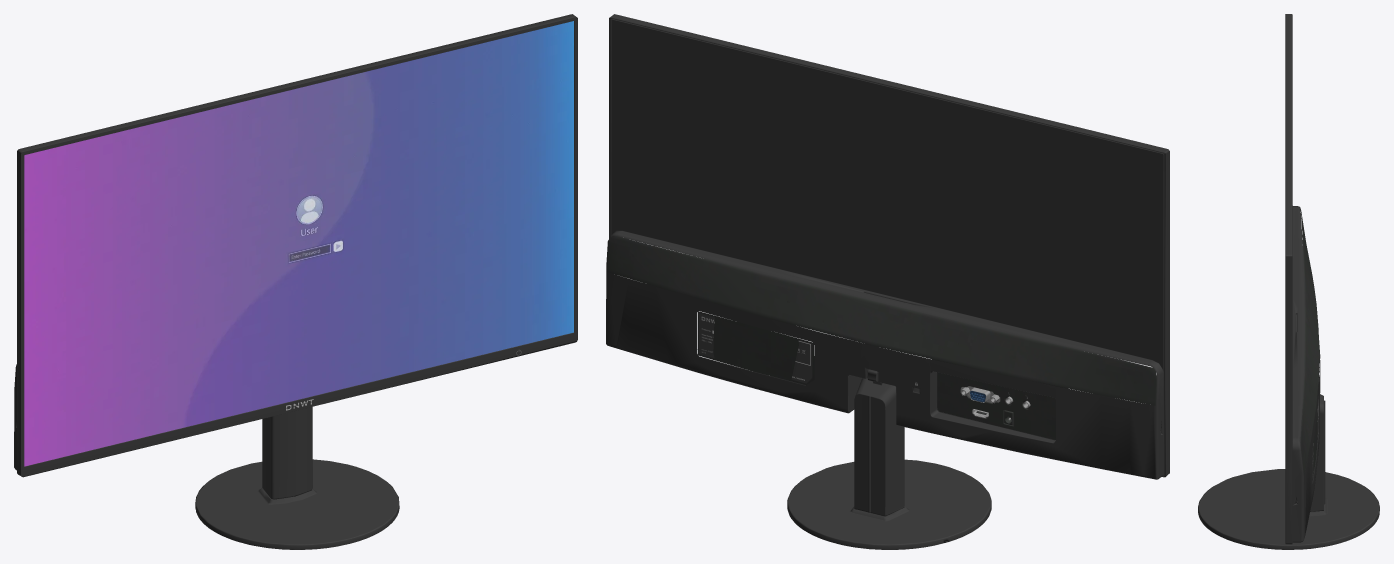
File: monitor.glb
The picture shows the model from 3 angles, left to right: view 1: azimuth 30°, elevation 25°; view 2: azimuth 150°, elevation 25°; view 3: azimuth 270°, elevation 25°; orthographic projection. The views are drawn at different scales.
Parts seen in each view (by area): view 1: emission, opaque__plastic__black_gloss_officemonitor_a; view 2: opaque__plastic__black_gloss_officemonitor_a, opaque__plastic__black_officemonitor_a, trans__decal__officemonitor_a; view 3: opaque__plastic__black_gloss_officemonitor_a, opaque__plastic__black_officemonitor_a.
Boxes of the visible parts, x1,y1,x2,y2 form: emission: (24, 21, 573, 466); opaque__plastic__black_gloss_officemonitor_a: (14, 14, 577, 549); opaque__plastic__black_gloss_officemonitor_a: (606, 14, 1169, 549); opaque__plastic__black_officemonitor_a: (606, 236, 1156, 439); trans__decal__officemonitor_a: (698, 313, 1027, 398); opaque__plastic__black_gloss_officemonitor_a: (1198, 14, 1379, 549); opaque__plastic__black_officemonitor_a: (1300, 209, 1320, 477).
Bounding box in the file's own units: 0.542 × 0.3942 × 0.1722.
6 materials, 5 textured.
